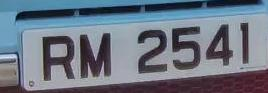1: (233, 14, 258, 67)
2: (133, 27, 172, 77)
4: (200, 14, 239, 71)
5: (169, 22, 207, 74)
M: (73, 28, 119, 86)
R: (40, 29, 81, 89)
